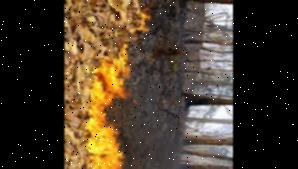fire: (82, 40, 136, 169), (123, 0, 180, 36)
